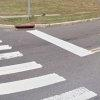Crosswalk: (6, 41, 100, 100)
